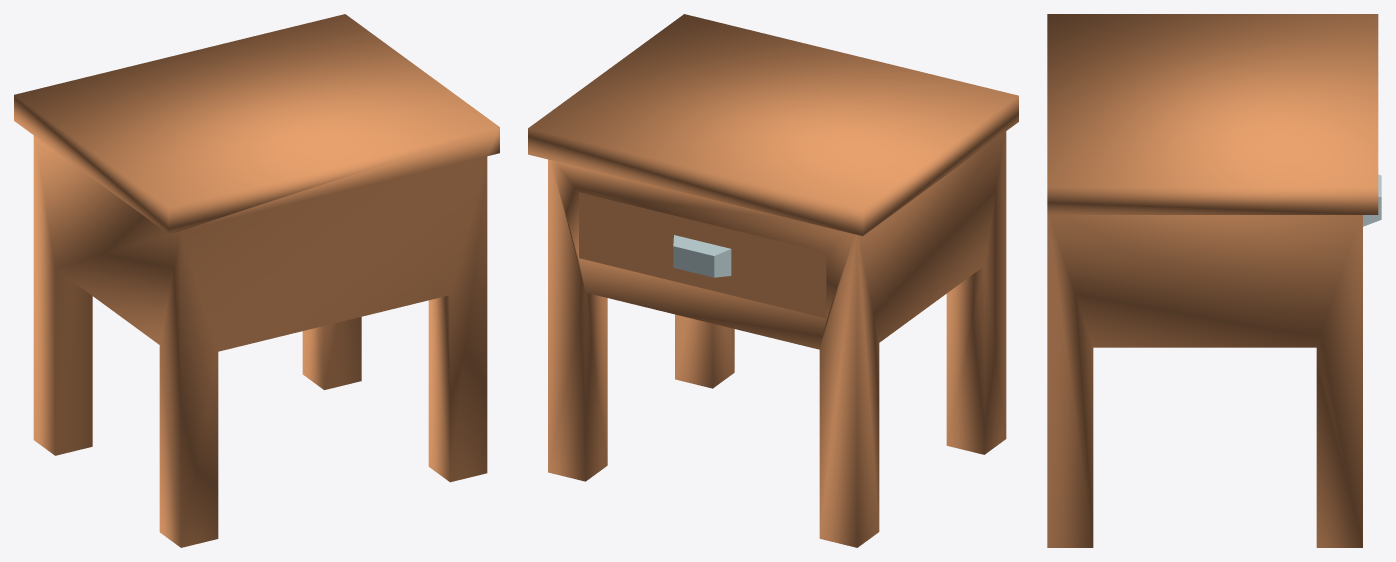
Rendered from bedtable.glb.
The picture shows the model from 3 angles, left to right: view 1: azimuth 30°, elevation 25°; view 2: azimuth 150°, elevation 25°; view 3: azimuth 270°, elevation 25°; orthographic projection. The views are drawn at different scales.
Visible parts, largest first — view 1: cabinetBedDrawerTable; view 2: cabinetBedDrawerTable; view 3: cabinetBedDrawerTable.
Part boxes in pixels (x1,y1,x2,y2): cabinetBedDrawerTable: [14, 14, 499, 547]; cabinetBedDrawerTable: [528, 14, 1018, 547]; cabinetBedDrawerTable: [1047, 14, 1381, 547].
Bounding box in the file's own units: 1.03 × 1.02 × 0.8419.
